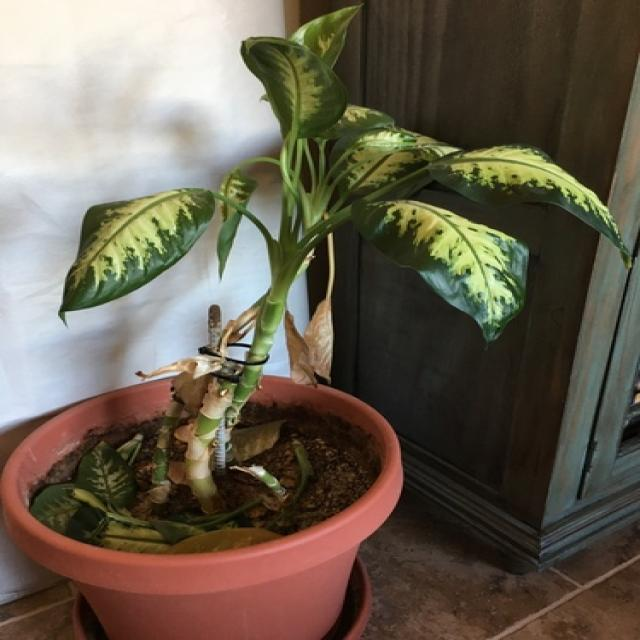dieffenbachia-oVHx: (58, 3, 631, 504)
